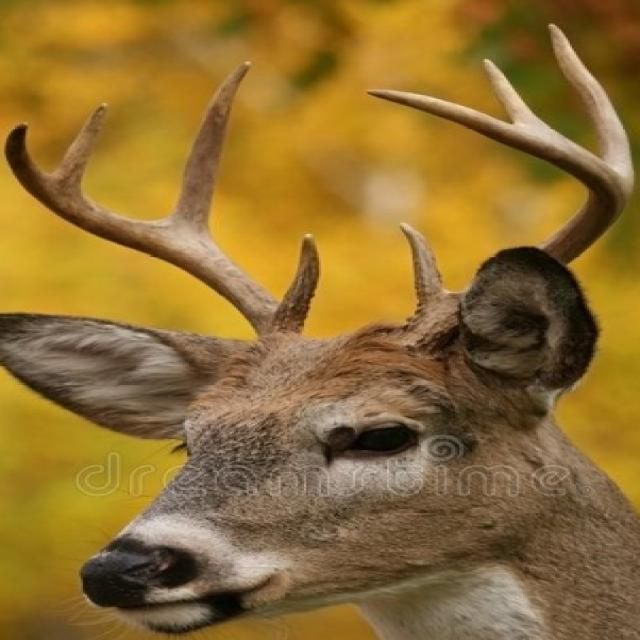L-G1: (398, 222, 451, 309)
L-G2: (548, 22, 635, 194)
L-G3: (481, 58, 539, 125)
R-F: (5, 121, 304, 340)
R-G1: (277, 233, 321, 327)
R-G2: (170, 59, 254, 233)
R-G3: (52, 102, 109, 188)
